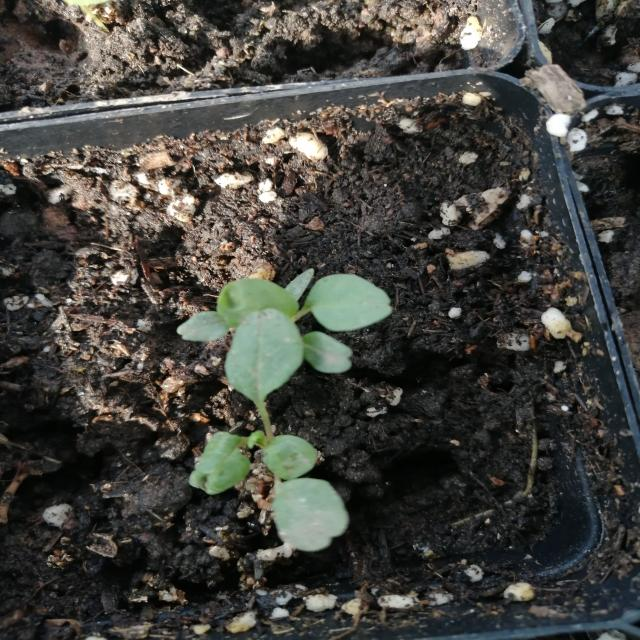pigweed: (148, 264, 362, 480)
